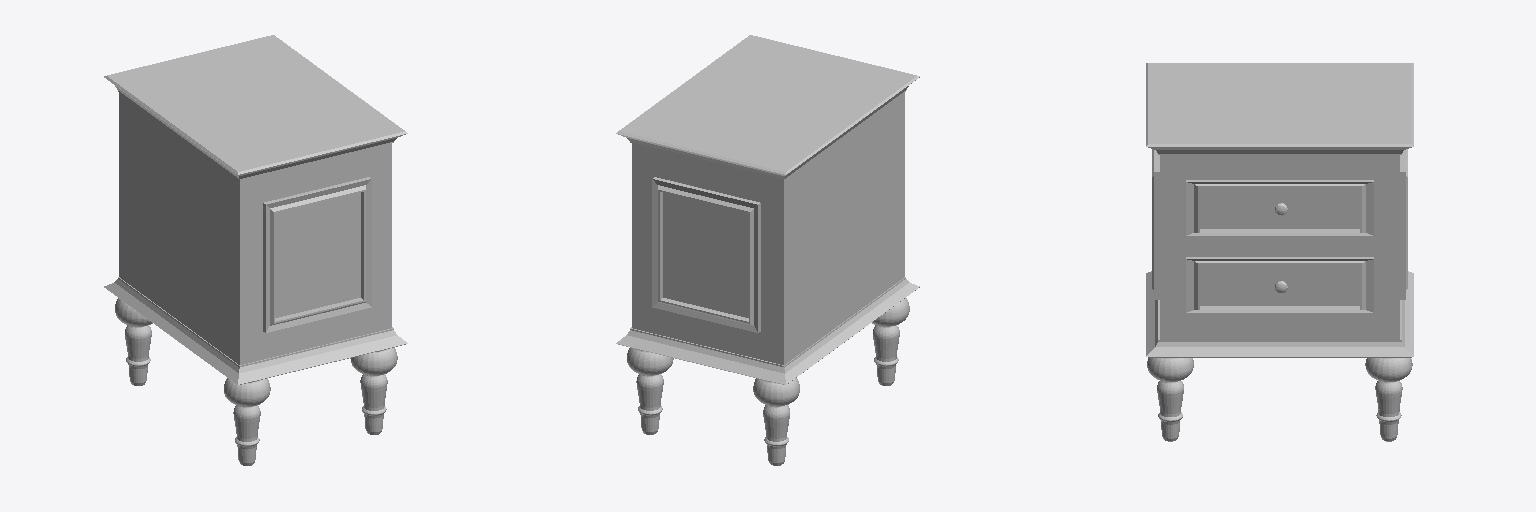
Rendered from Criado_Mudo.obj.
3 renders of one model, left to right at view 1: azimuth 30°, elevation 25°; view 2: azimuth 150°, elevation 25°; view 3: azimuth 270°, elevation 25°, orthographic.
Visible parts, largest first — view 1: Mesinha_de_canto:pCube3; view 2: Mesinha_de_canto:pCube3; view 3: Mesinha_de_canto:pCube3.
Boxes of the visible parts, <box> form: Mesinha_de_canto:pCube3: <box>104,35,407,465</box>; Mesinha_de_canto:pCube3: <box>616,35,919,465</box>; Mesinha_de_canto:pCube3: <box>1146,63,1413,441</box>.
Size of the model in its own units: 0.8759 by 1.5 by 1.19.